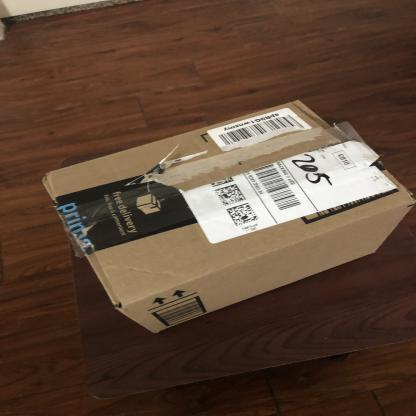package: (34, 95, 415, 347)
